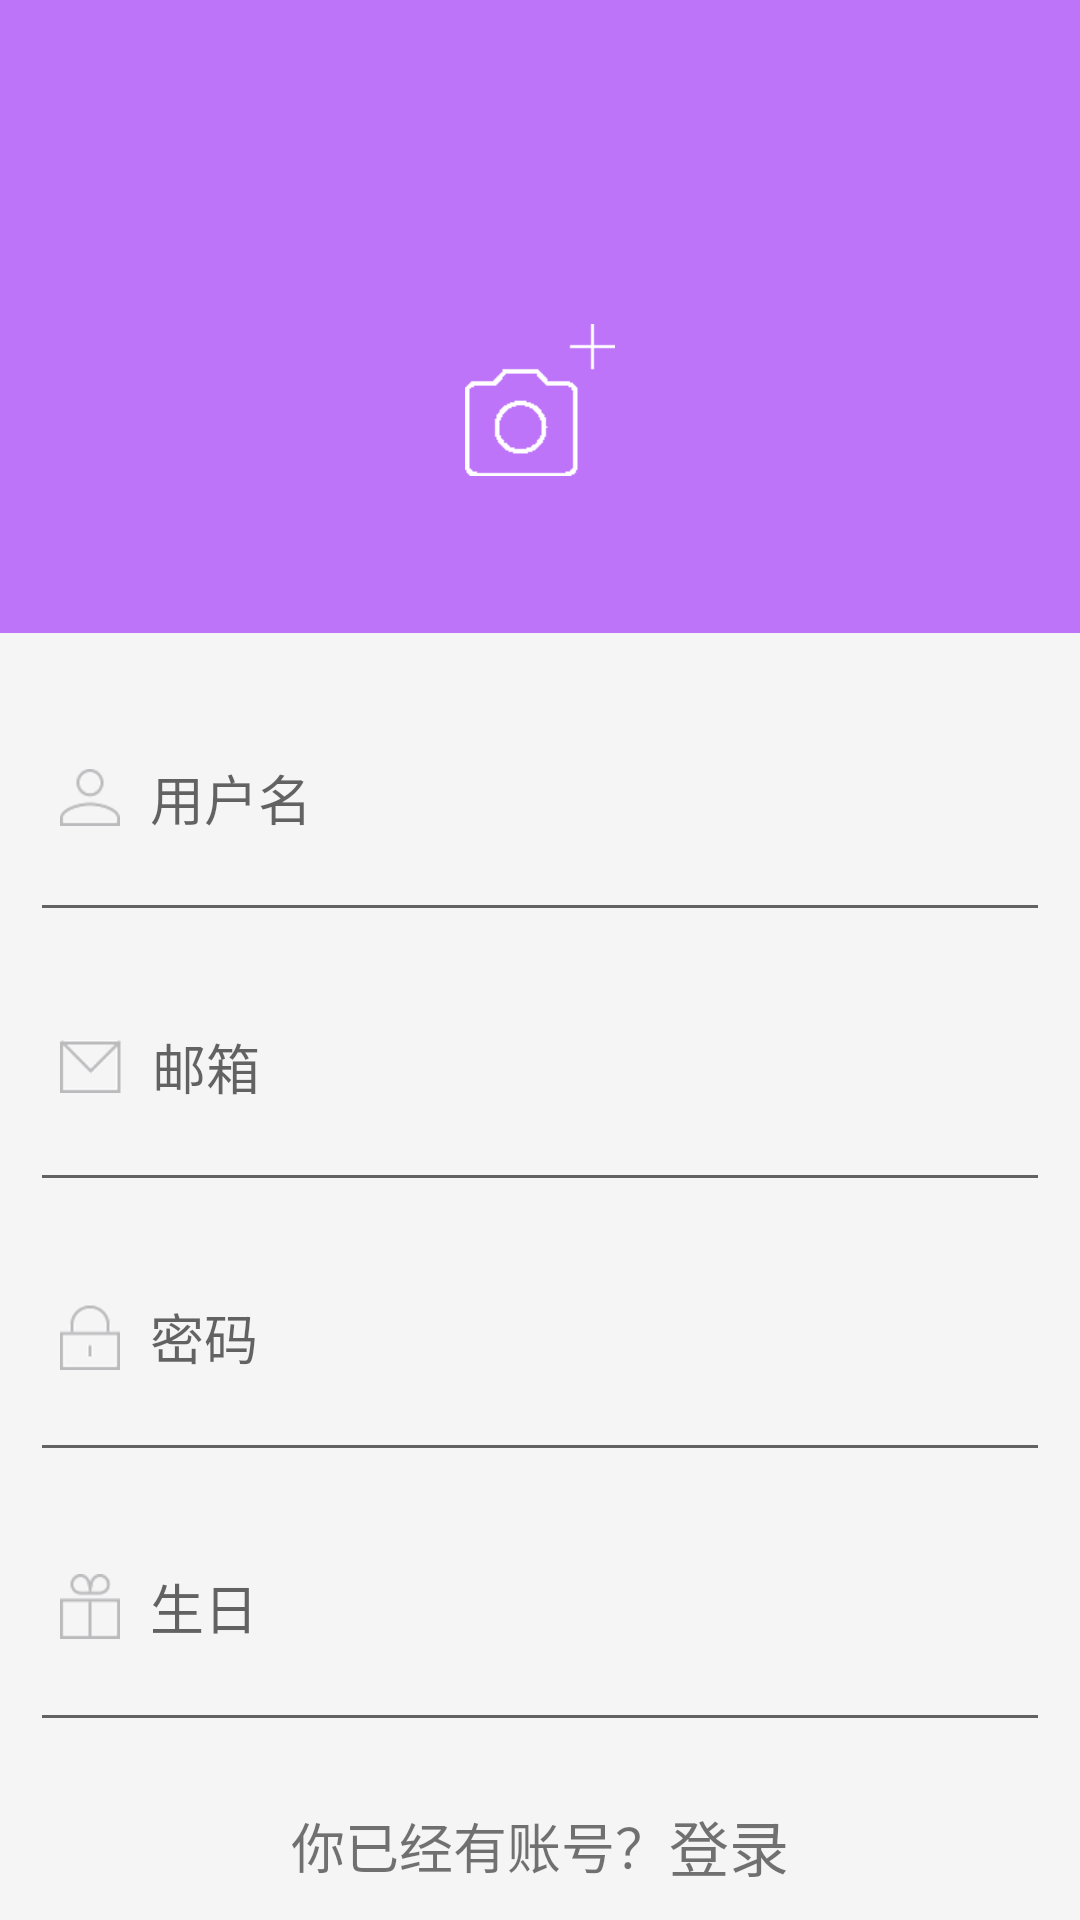

Icons on this 1080x1920 Android screen, each with the point to tap as (x,y):
sign up camera: (540,400)
